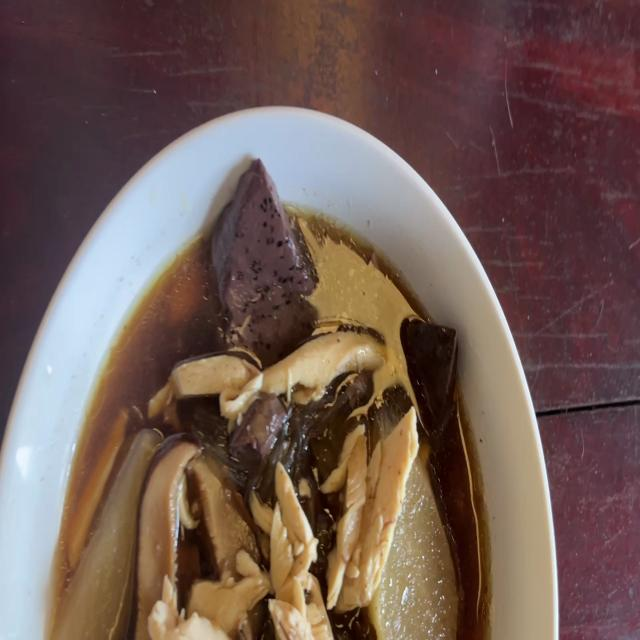noodle: (209, 166, 308, 340), (400, 318, 462, 421), (236, 400, 284, 464)
